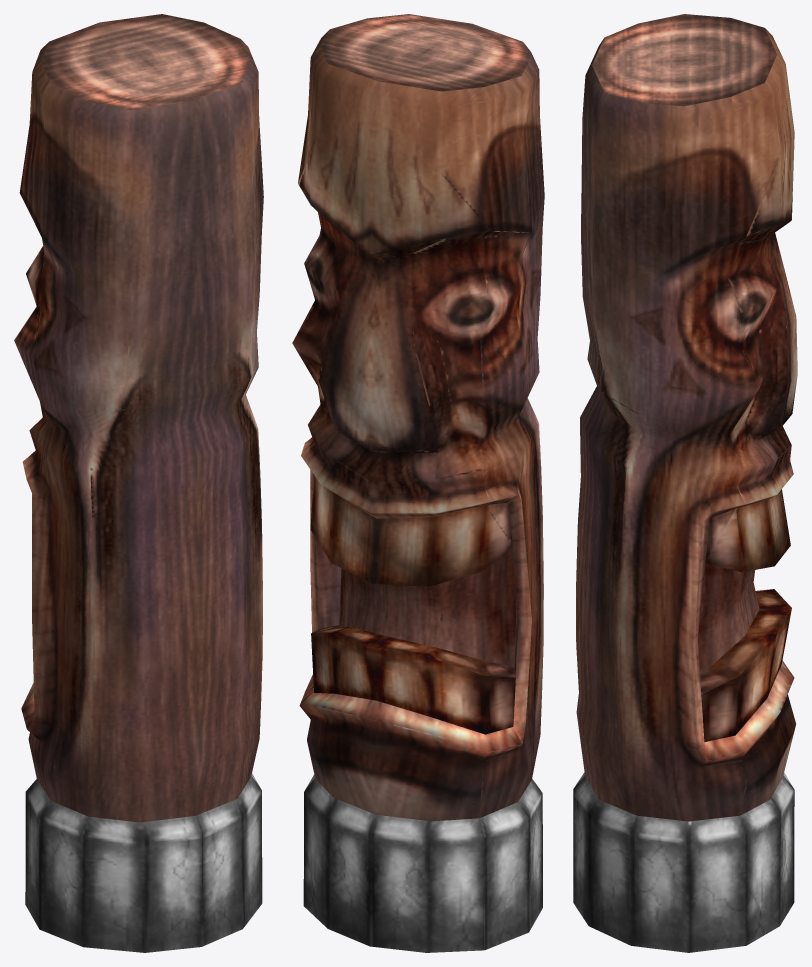
The model's file is tikistatue.fbx.
3 views of the same model, side by side, from view 1: azimuth 30°, elevation 25°; view 2: azimuth 150°, elevation 25°; view 3: azimuth 270°, elevation 25° (orthographic).
Parts seen in each view (by area): view 1: Cylinder21.1; view 2: Cylinder21.1; view 3: Cylinder21.1.
Boxes of the visible parts, box(x1,y1,x2,y2) form: Cylinder21.1: box(14, 14, 263, 952); Cylinder21.1: box(292, 14, 544, 952); Cylinder21.1: box(573, 14, 797, 952).
Bounding box in the file's own units: 2.16 × 8 × 1.92.
1 material, 1 textured.
